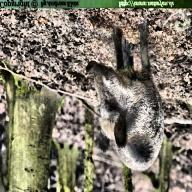boar: (83, 27, 170, 179)
